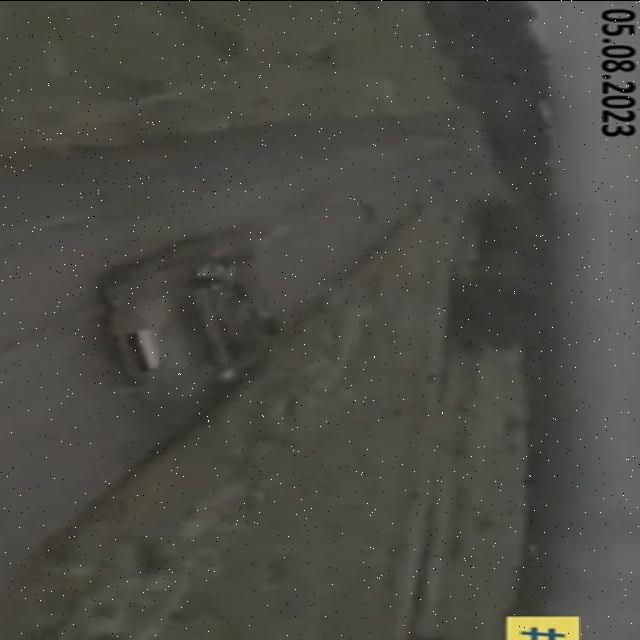TANK: (104, 222, 300, 388)
